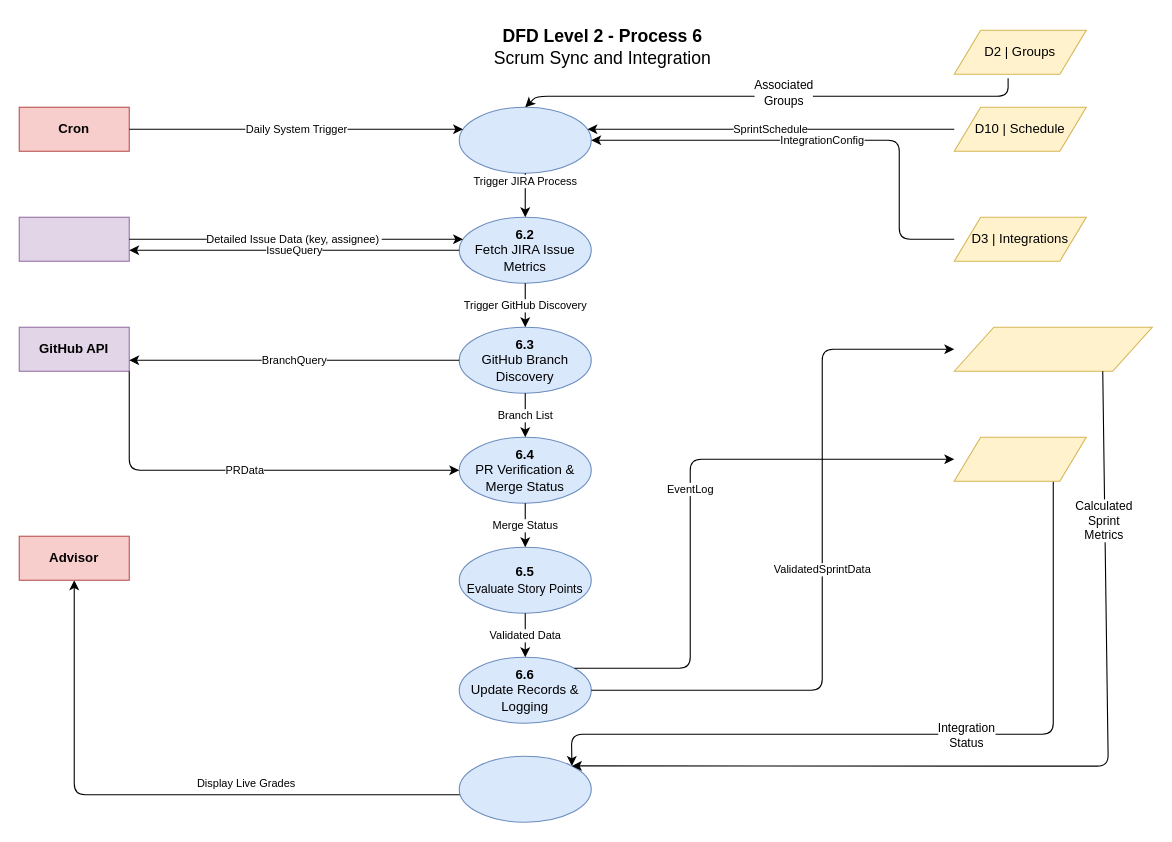
This 1172x842 diagram has some shape labels left out. Here are the shapes that lost their labels. From the top down, the centre of each, then its label:
(x=524, y=139): 6.1 Check Schedule & Retrieve Config
(x=73, y=238): JIRA API
(x=1052, y=348): D6 | Sprint and Repo Data
(x=1019, y=458): D9 | System Logs
(x=524, y=788): 6.7 Generate Advisor Dashboard
